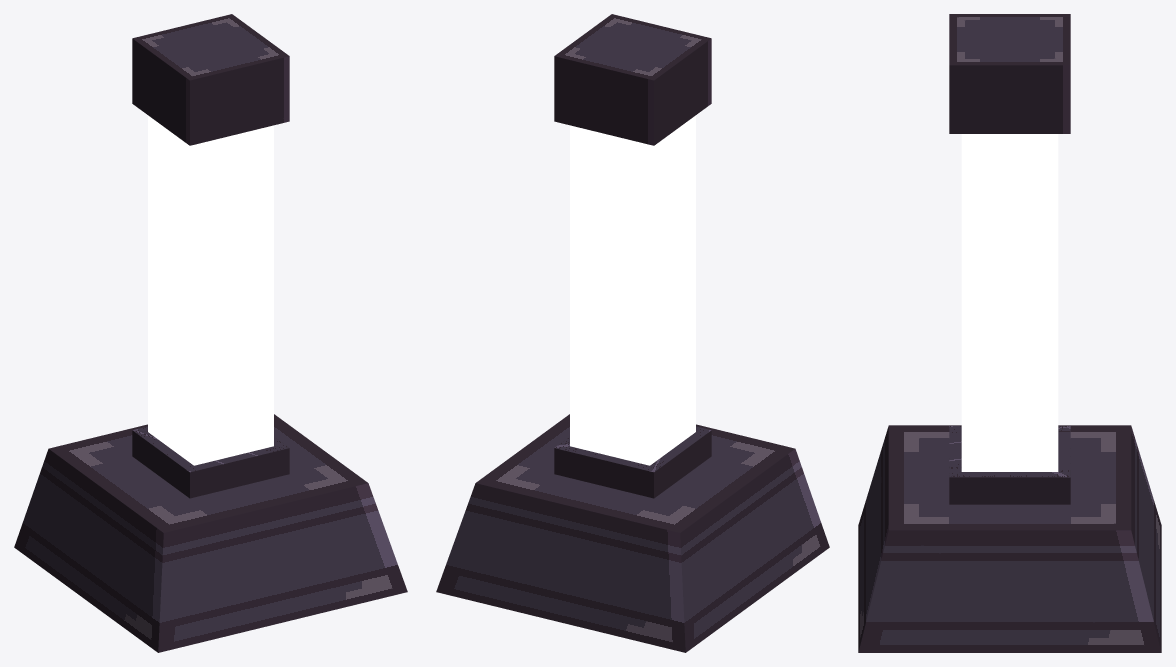
File: Light.glb
The picture shows the model from 3 angles, left to right: view 1: azimuth 30°, elevation 25°; view 2: azimuth 150°, elevation 25°; view 3: azimuth 270°, elevation 25°; orthographic projection. The views are drawn at different scales.
Parts seen in each view (by area): view 1: Bottom, Light, Top; view 2: Bottom, Light, Top; view 3: Bottom, Light, Top.
Part boxes in pixels (bbox=[...]): Bottom: bbox=[14, 414, 407, 652]; Light: bbox=[148, 115, 273, 465]; Top: bbox=[132, 14, 289, 145]; Bottom: bbox=[436, 414, 829, 652]; Light: bbox=[570, 115, 695, 465]; Top: bbox=[554, 14, 711, 145]; Bottom: bbox=[858, 425, 1161, 652]; Light: bbox=[961, 134, 1058, 471]; Top: bbox=[949, 14, 1070, 133].
Size of the model in its own units: 0.5 by 1 by 0.5.
Materials: 2 (1 with a texture image).
